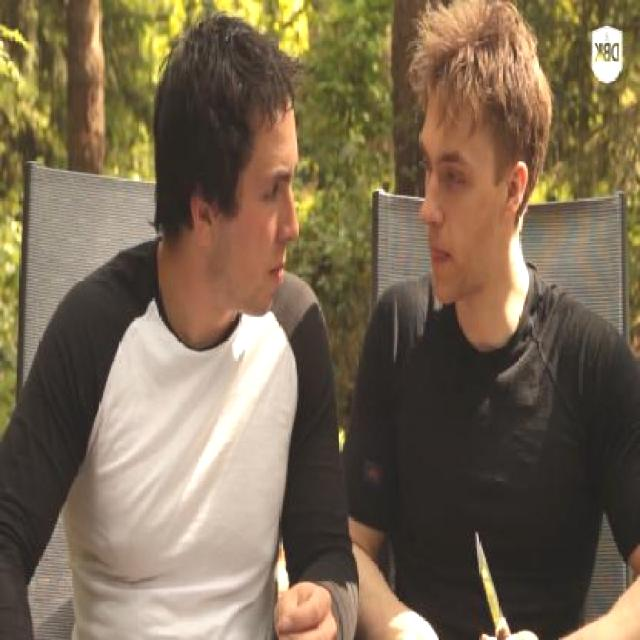knife: (466, 517, 534, 638)
